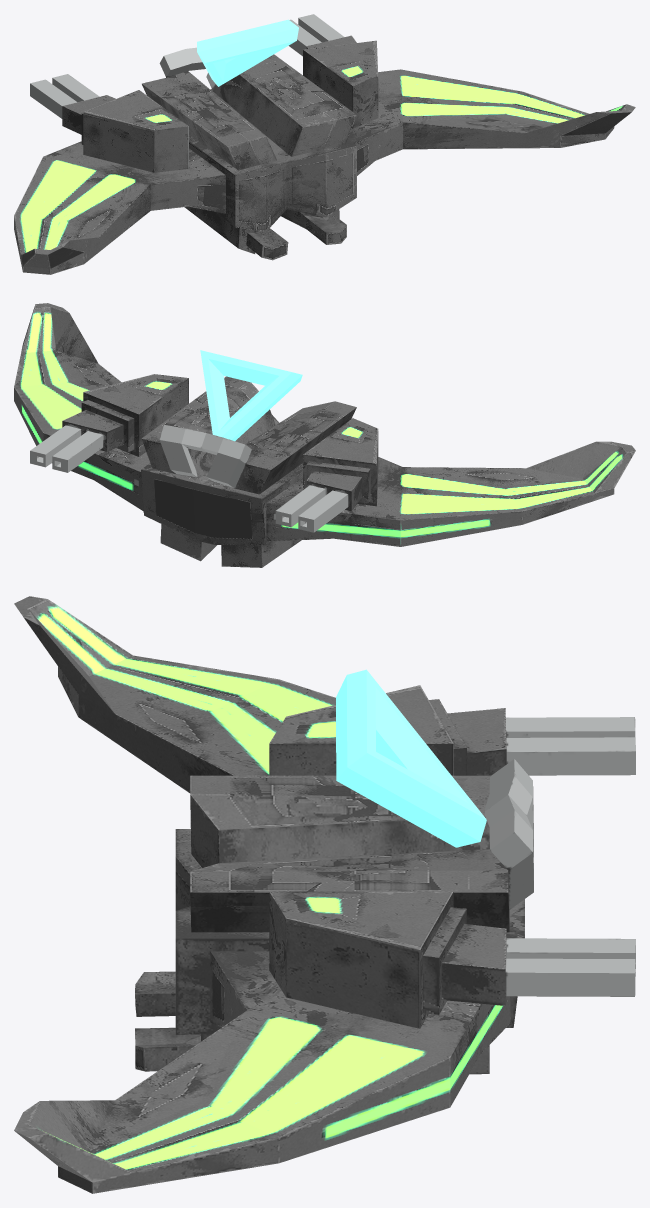
The model's file is Drone_Triangle.fbx.
3 views of the same model, one above another, from view 1: azimuth 30°, elevation 25°; view 2: azimuth 150°, elevation 25°; view 3: azimuth 270°, elevation 25° (orthographic). The views are drawn at different scales.
Visible parts, largest first — view 1: Torus.001; view 2: Torus.001; view 3: Torus.001.
Part boxes in pixels (bbox=[...]): Torus.001: bbox=[14, 14, 635, 274]; Torus.001: bbox=[14, 303, 635, 567]; Torus.001: bbox=[14, 596, 635, 1193].
Bounding box in the file's own units: 987 × 288 × 479.
2 materials, 1 textured.
